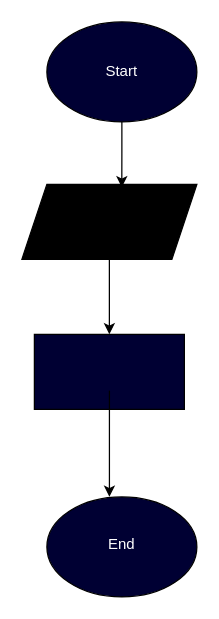
Image size: 219x619. Some labels were removed from this diagram. The centre of each missing label's shape, as x and y in pixels:
In ra: a (phép tình) b: the point at 108,371
Nhập a, b Nhập phép tính: the point at 109,221
